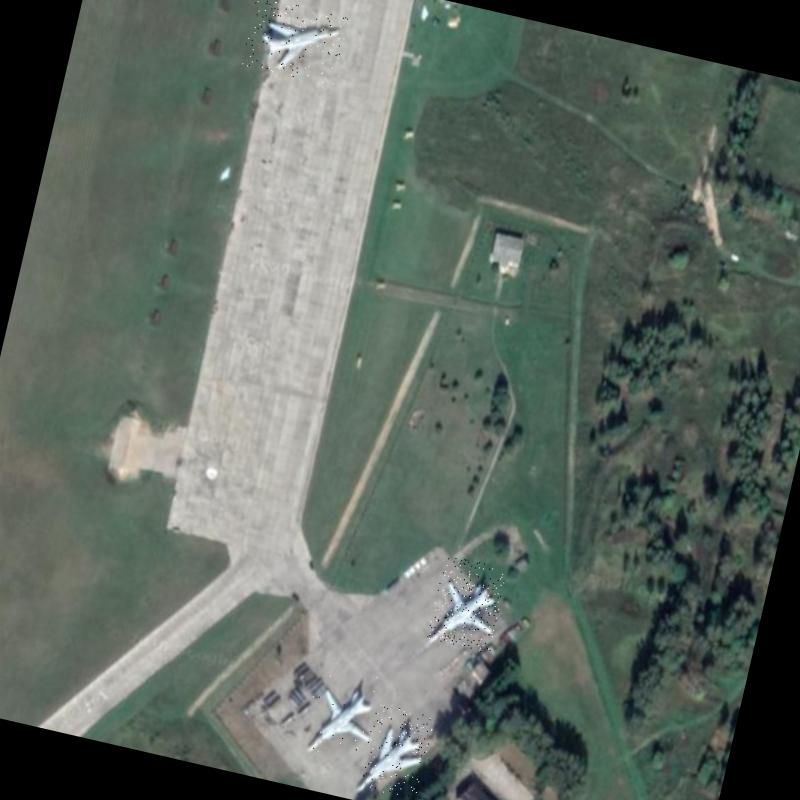A12: (240, 0, 349, 86), (300, 660, 386, 762), (426, 554, 509, 654), (356, 702, 434, 800)
